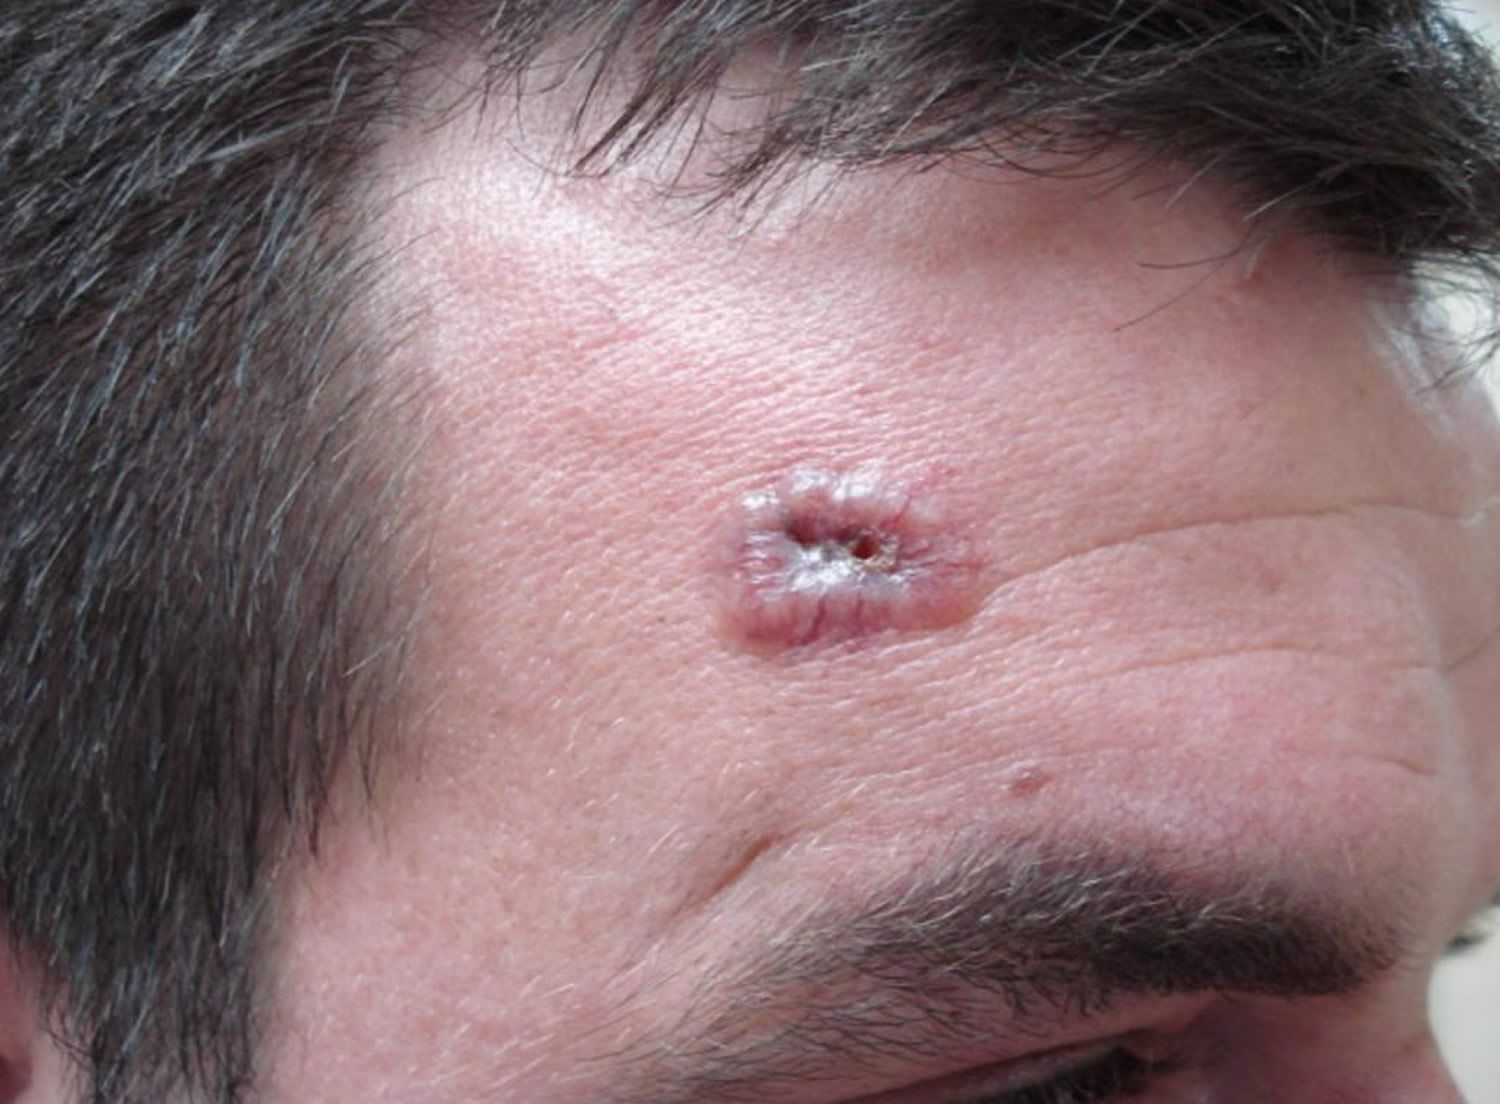Basa Cell Carcinoma: (705, 422, 1010, 688)
